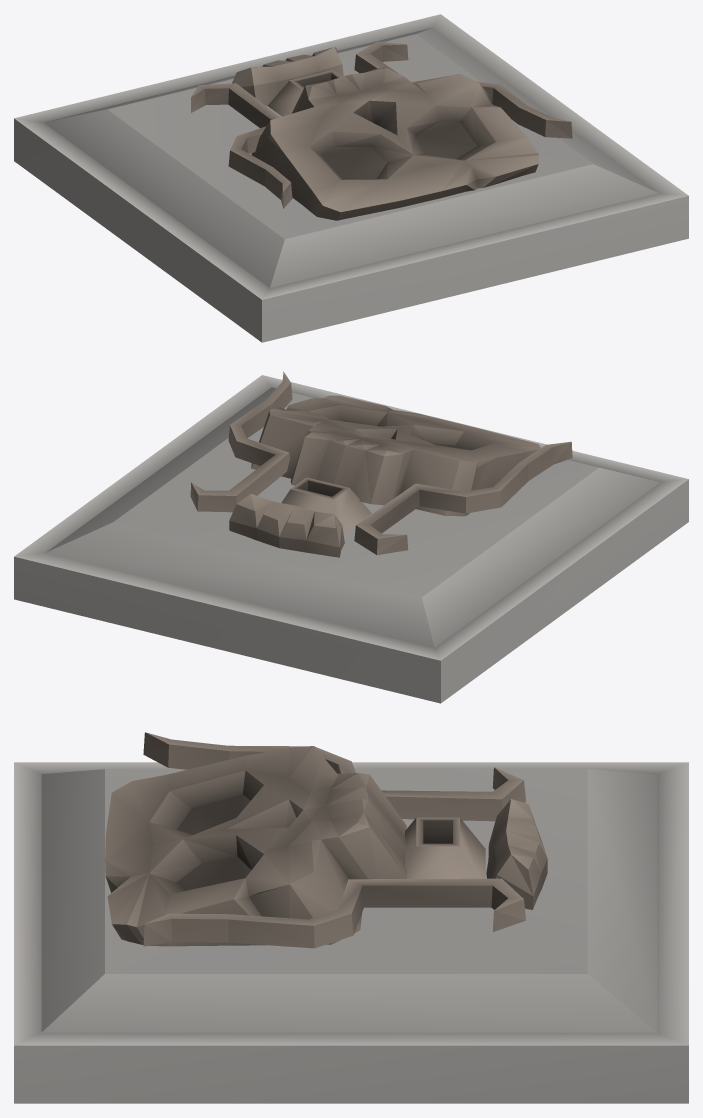
Rendered from floor_button_skull_A_LOW.FBX.
The picture shows the model from 3 angles, top to bottom: view 1: azimuth 30°, elevation 25°; view 2: azimuth 150°, elevation 25°; view 3: azimuth 270°, elevation 25°; orthographic projection. The views are drawn at different scales.
Visible parts, largest first — view 1: floor_button_skull_A_LOW; view 2: floor_button_skull_A_LOW; view 3: floor_button_skull_A_LOW.
Boxes of the visible parts, x1,y1,x2,y2 form: floor_button_skull_A_LOW: [14, 14, 688, 342]; floor_button_skull_A_LOW: [14, 371, 688, 703]; floor_button_skull_A_LOW: [14, 732, 688, 1103].
Size of the model in its own units: 1.3 by 0.3544 by 1.31.
